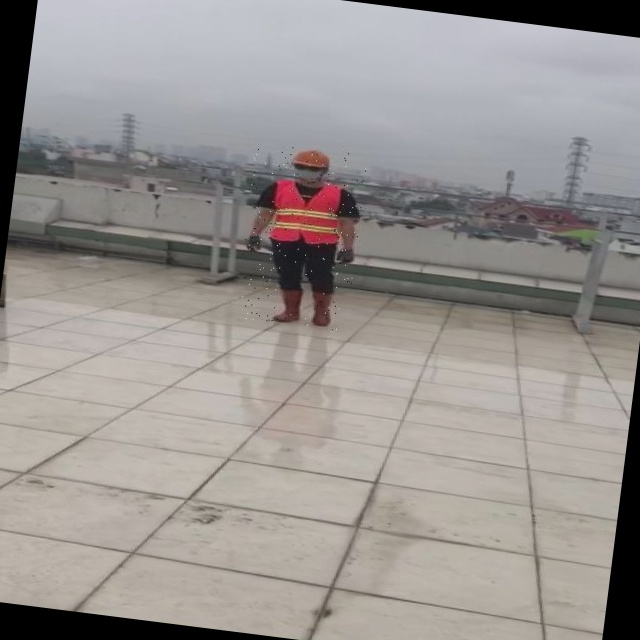boots: (338, 293, 368, 327), (306, 292, 330, 327)
gloves: (385, 237, 412, 276), (295, 242, 316, 270)
helmet: (329, 151, 367, 168)
vest: (310, 184, 380, 246)
